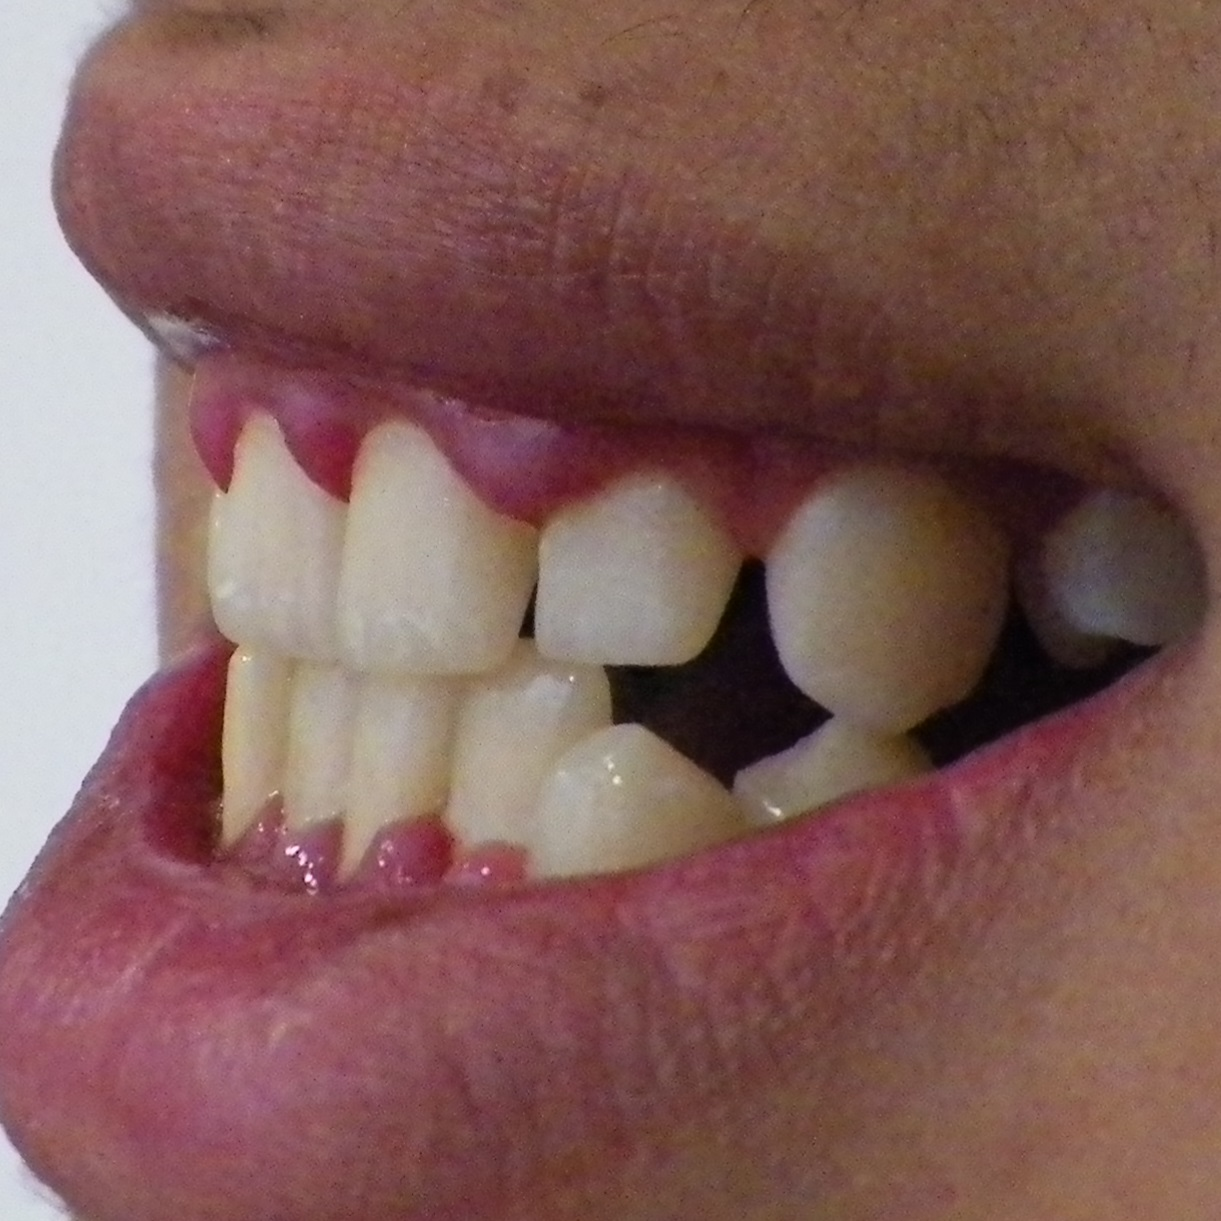boca: (176, 395, 1210, 886)
